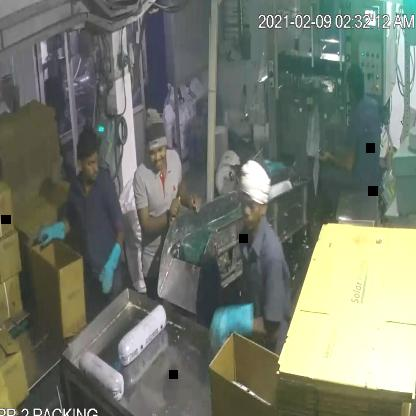glove: (200, 283, 264, 363), (95, 237, 128, 294), (32, 206, 69, 250)
no_glove: (134, 191, 184, 240), (311, 141, 359, 181), (170, 178, 204, 220)
